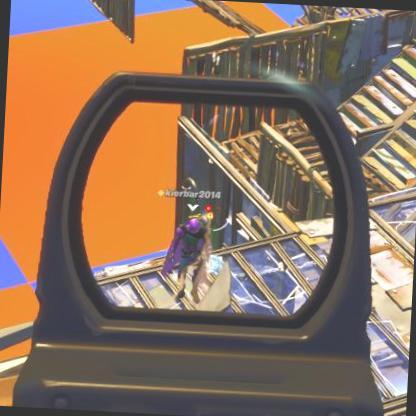person: (160, 206, 219, 307)
